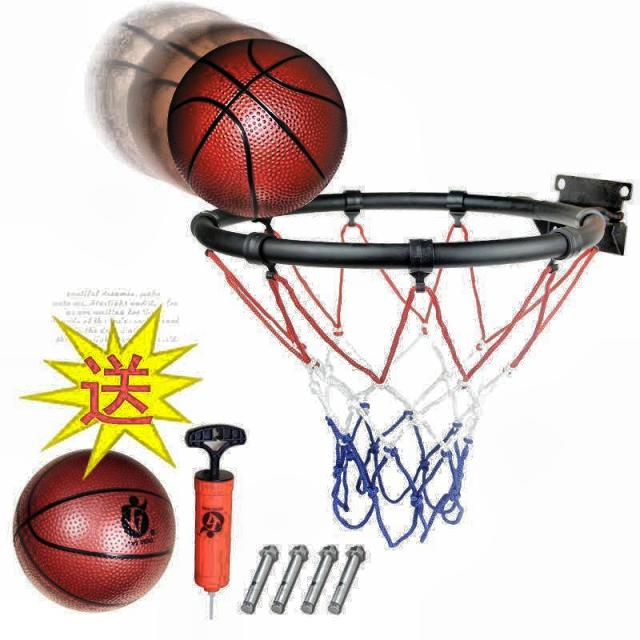board: (166, 36, 348, 219), (12, 447, 175, 615)
rim: (195, 212, 608, 543)
